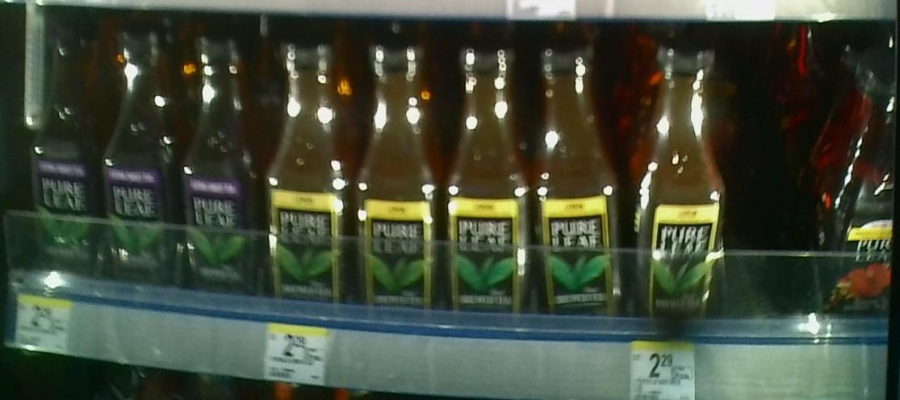bottle: (534, 48, 633, 340), (439, 38, 532, 338), (636, 34, 730, 330), (264, 29, 351, 327), (352, 34, 437, 335), (820, 42, 900, 339), (182, 30, 264, 314), (103, 22, 182, 309), (28, 9, 101, 298)
